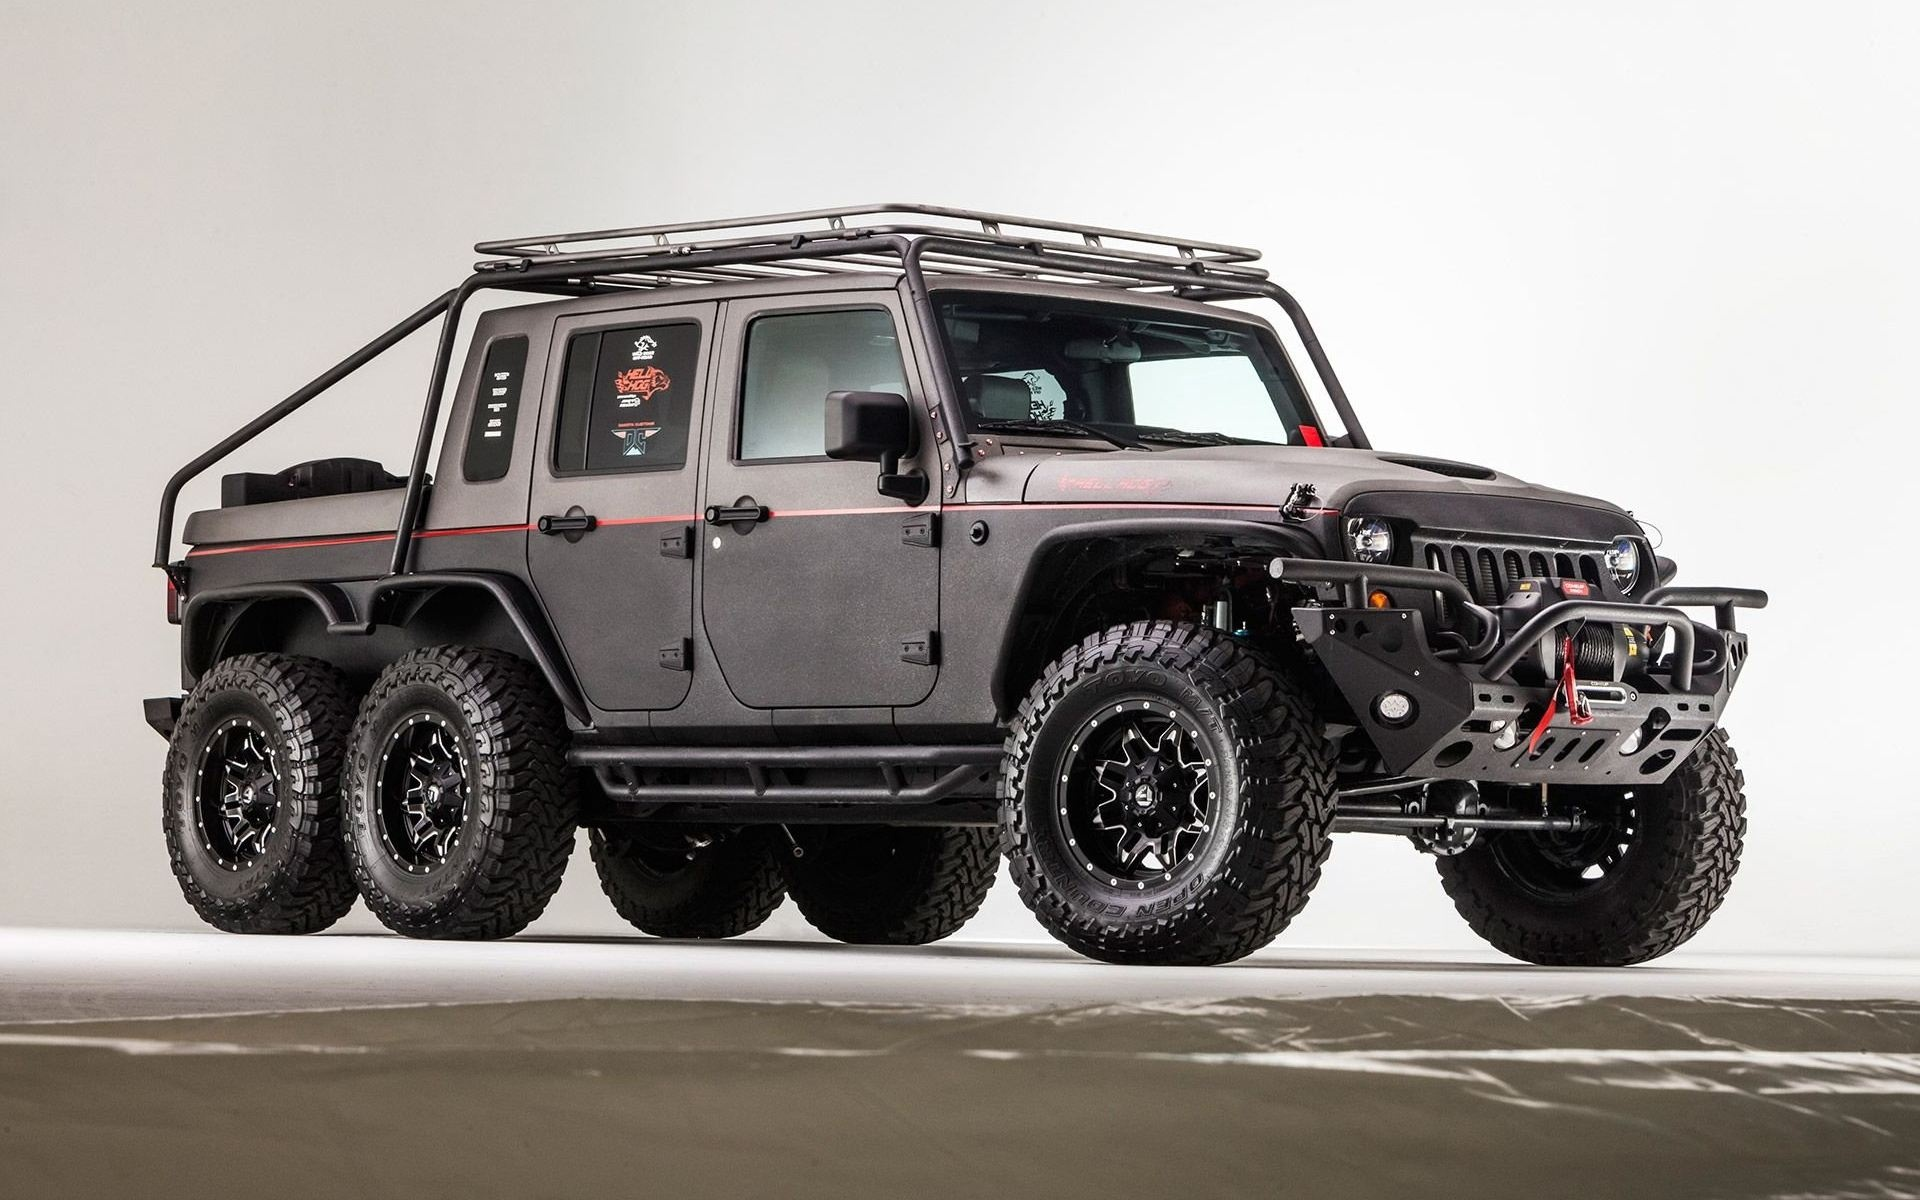jeep: (147, 171, 1757, 972)
